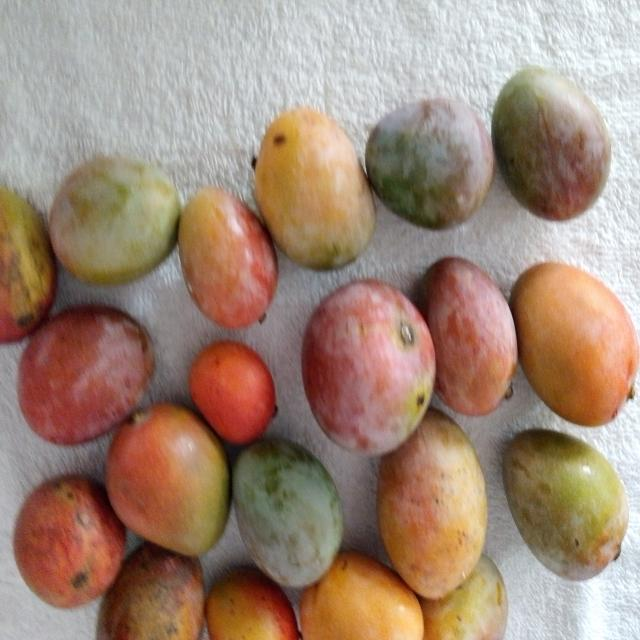mango: (304, 278, 434, 460), (511, 259, 638, 430), (103, 398, 238, 558), (252, 106, 377, 272), (494, 64, 615, 231), (502, 425, 629, 582), (50, 151, 192, 280), (230, 435, 348, 590), (367, 93, 496, 233), (180, 183, 277, 331)
